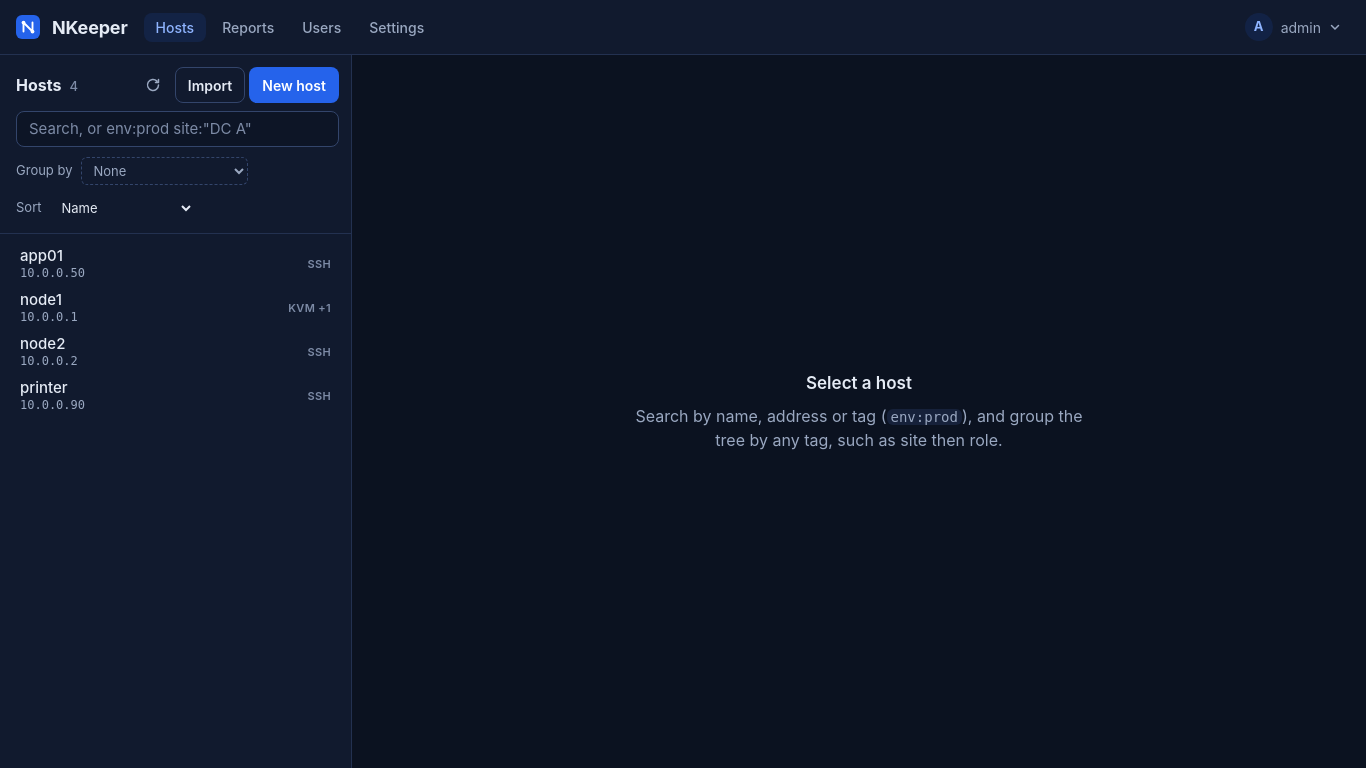
Test: virtual machines › on a Proxmox node: the cluster’s other nodes are added or tagged, and the node gets the cluster’s tag
The width and height of the screenshot is (1366, 768).
Right-click the button "node1 10.0.0.1 KVM +1" at (41, 300), box x1=8 y1=286 x2=343 y2=330
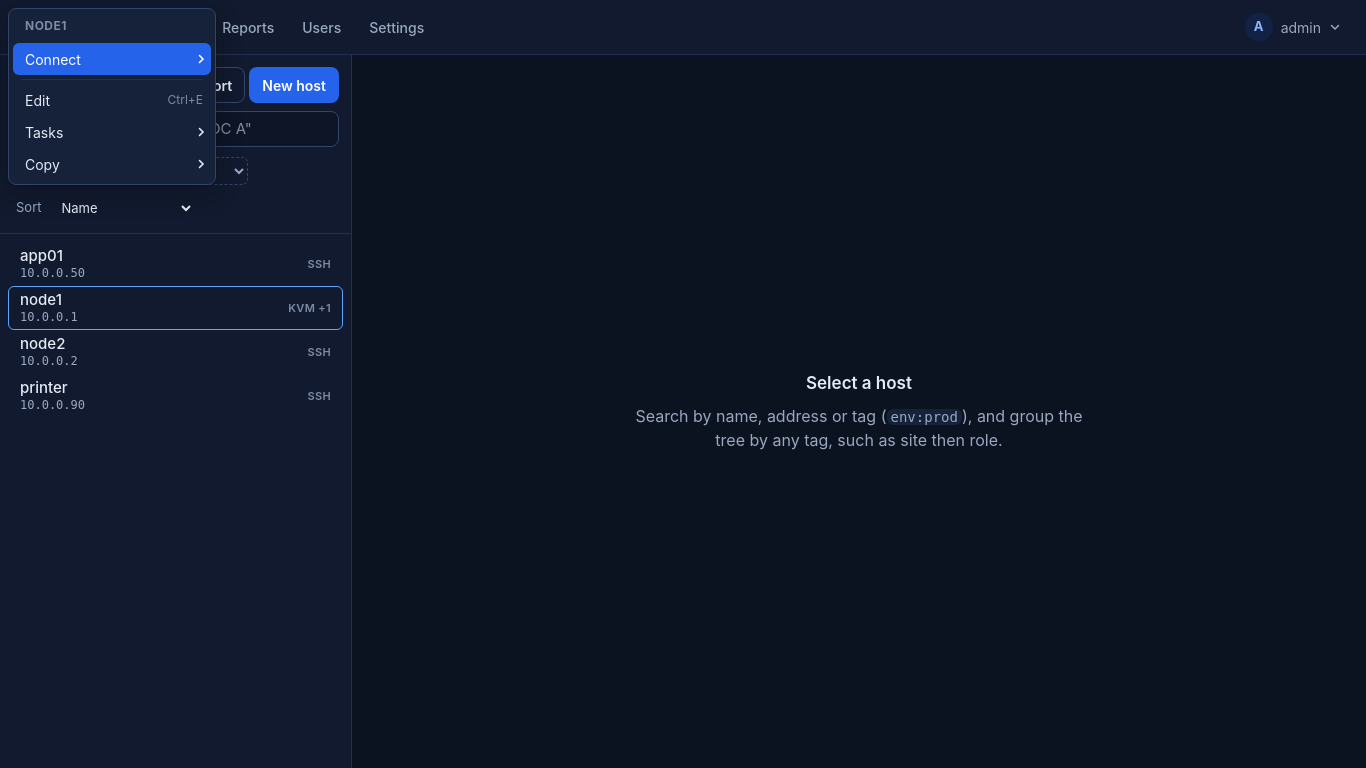
Hover over the menu item "Tasks" at (112, 132), box x1=13 y1=116 x2=211 y2=148
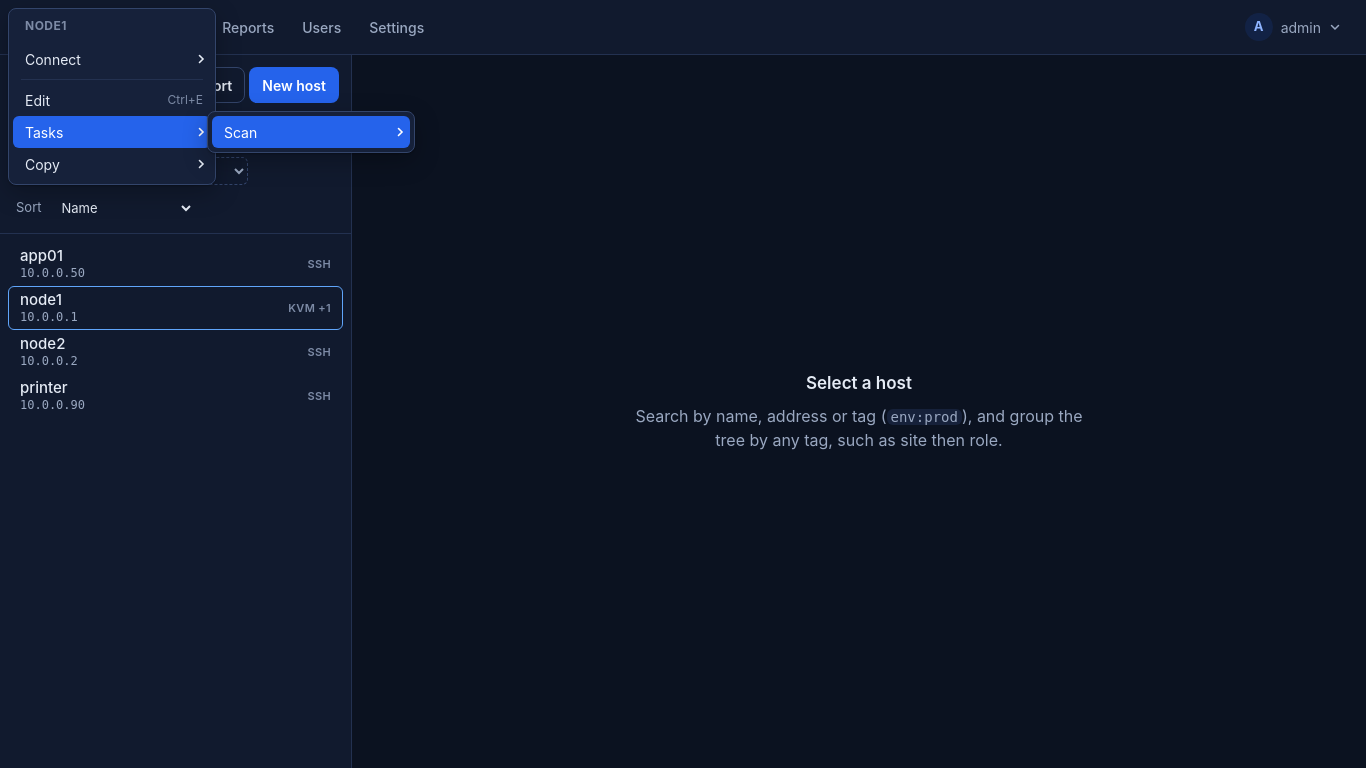
Hover over the menu item "Scan" at (311, 132), box x1=212 y1=116 x2=410 y2=148
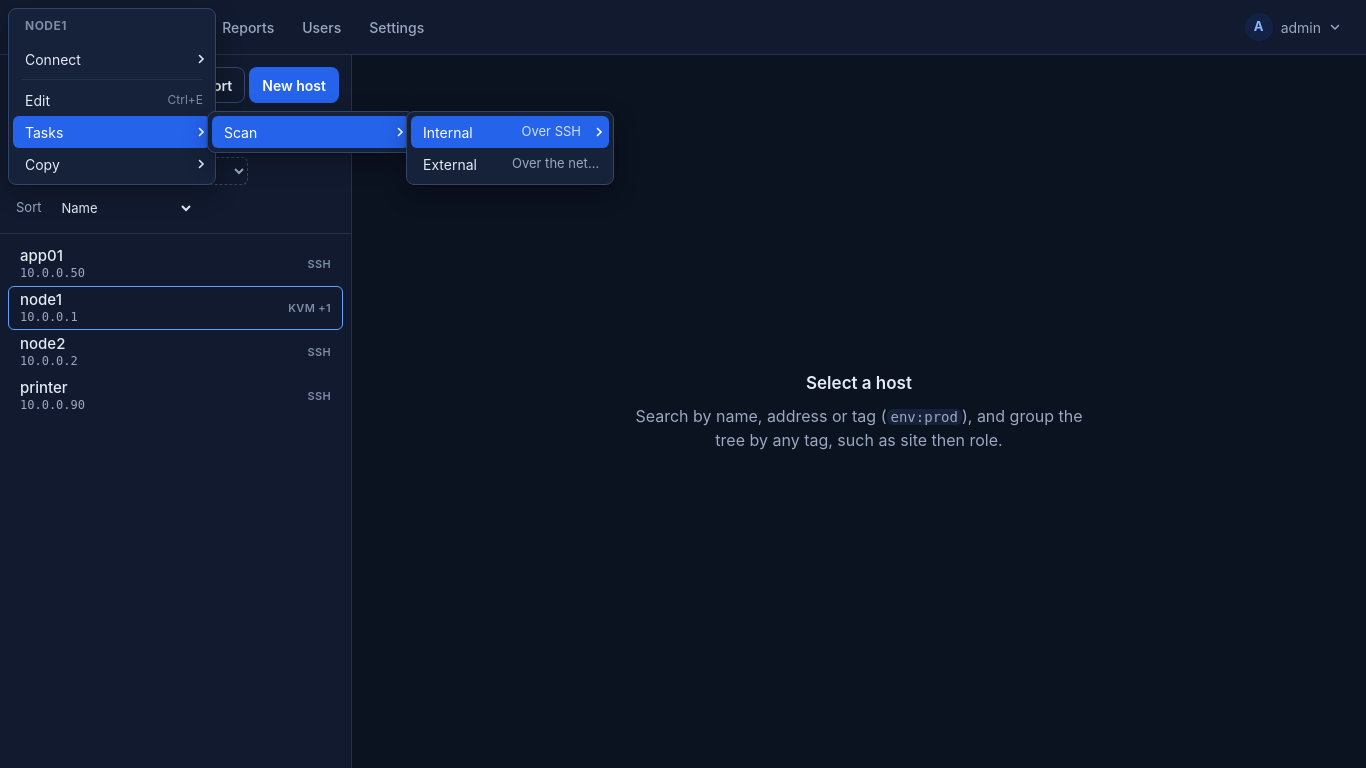
Hover over the menu item "Internal Over SSH" at (510, 132), box x1=411 y1=116 x2=609 y2=148
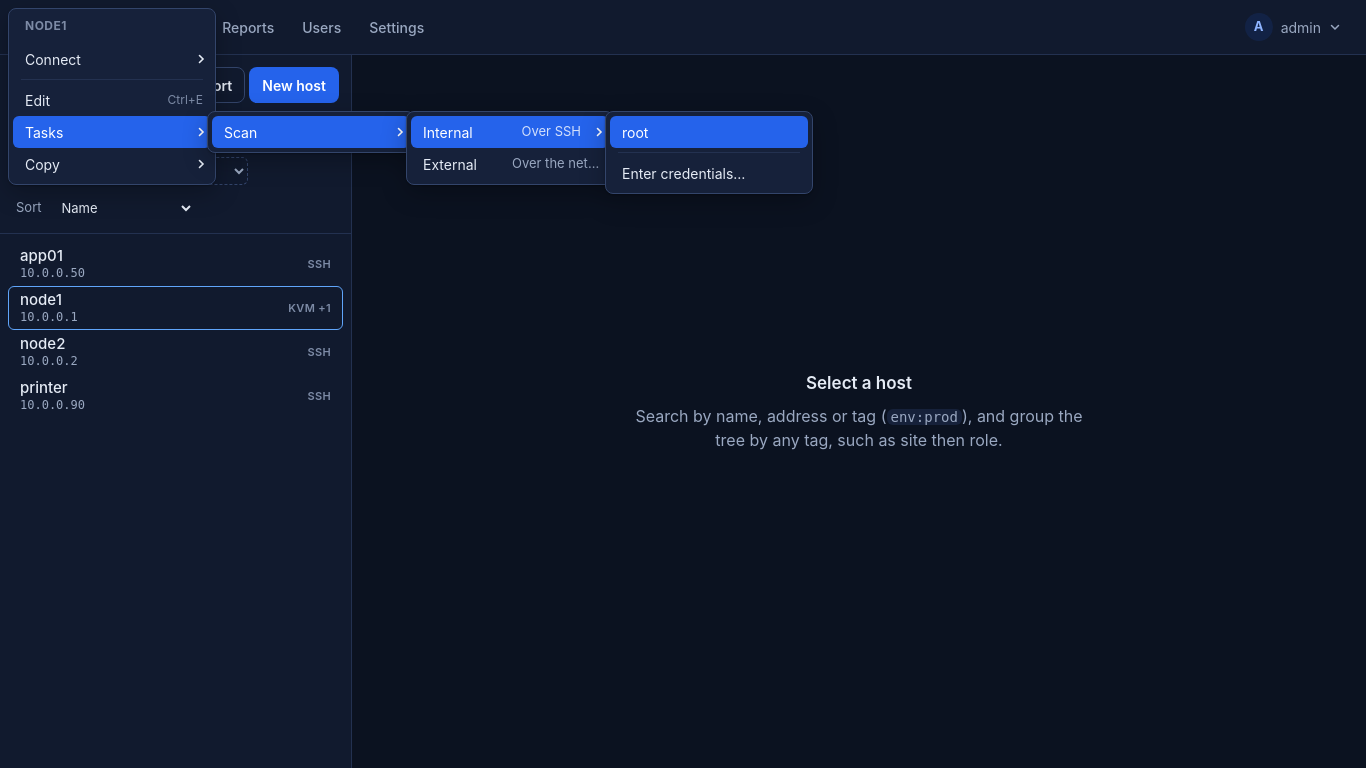
Click the menu item "root" at (709, 132), box x1=610 y1=116 x2=808 y2=148
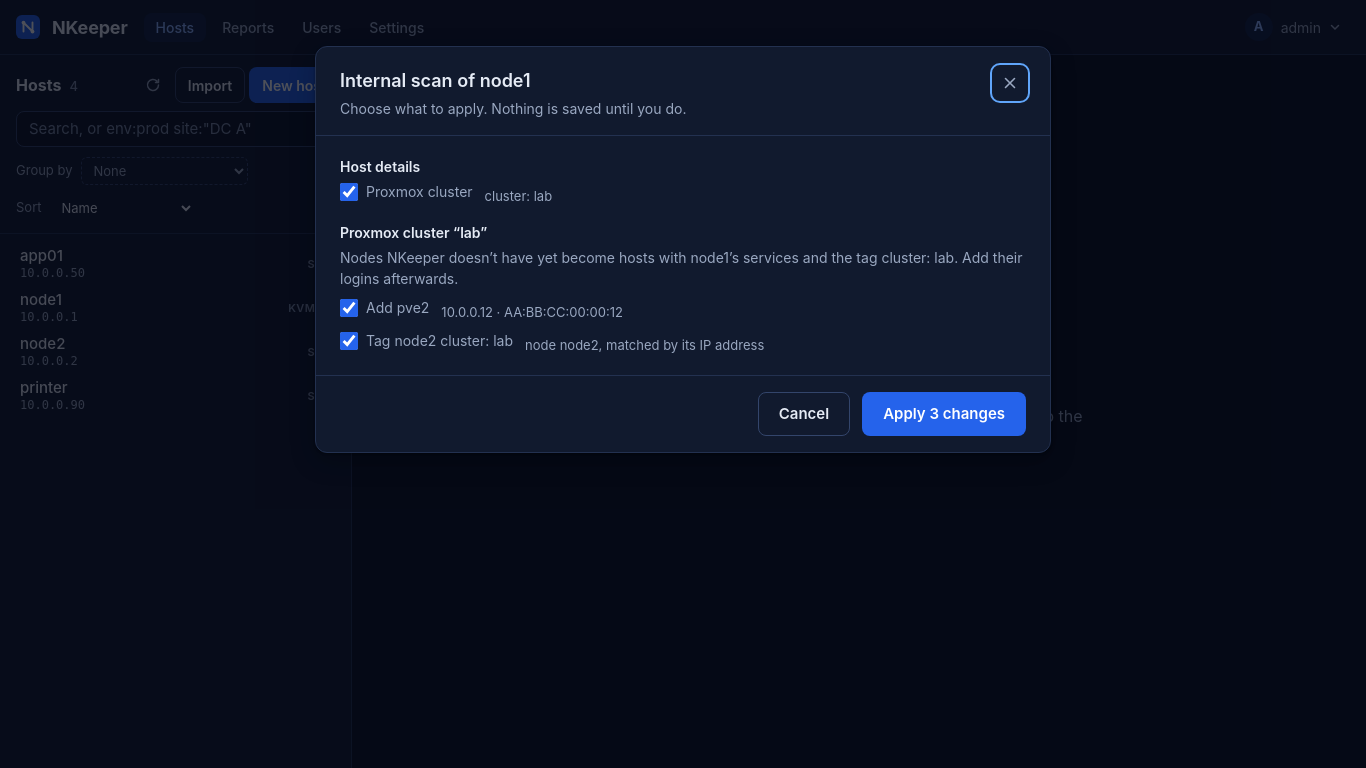
expect the checkbox labelled "Proxmox cluster" is checked: met, box x1=340 y1=183 x2=358 y2=201
expect the checkbox labelled "Add pve2" is checked: met, box x1=340 y1=299 x2=358 y2=317
expect the checkbox labelled "Tag node2 cluster: lab" is checked: met, box x1=340 y1=332 x2=358 y2=350
Click the button "Apply 3 changes" at (944, 414), box x1=862 y1=392 x2=1026 y2=436
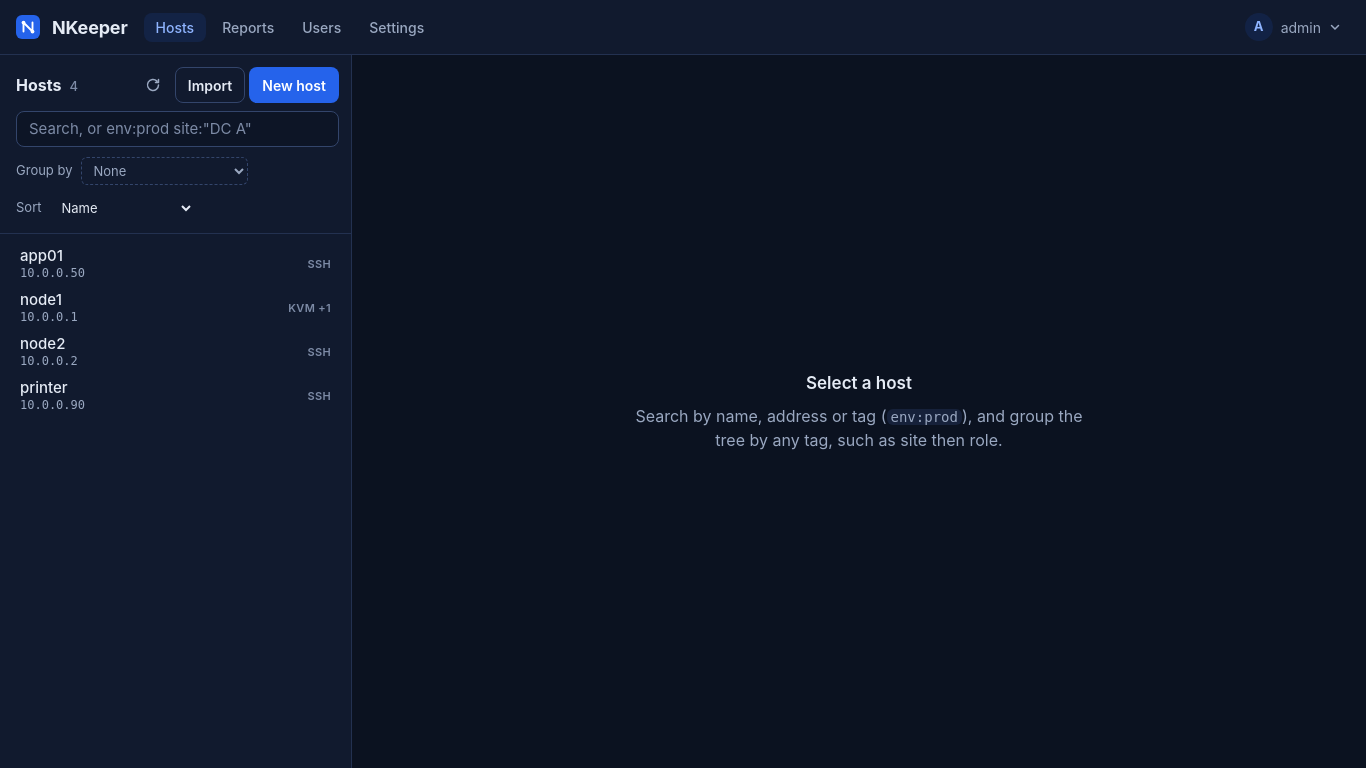
expect the dialog is gone: met
